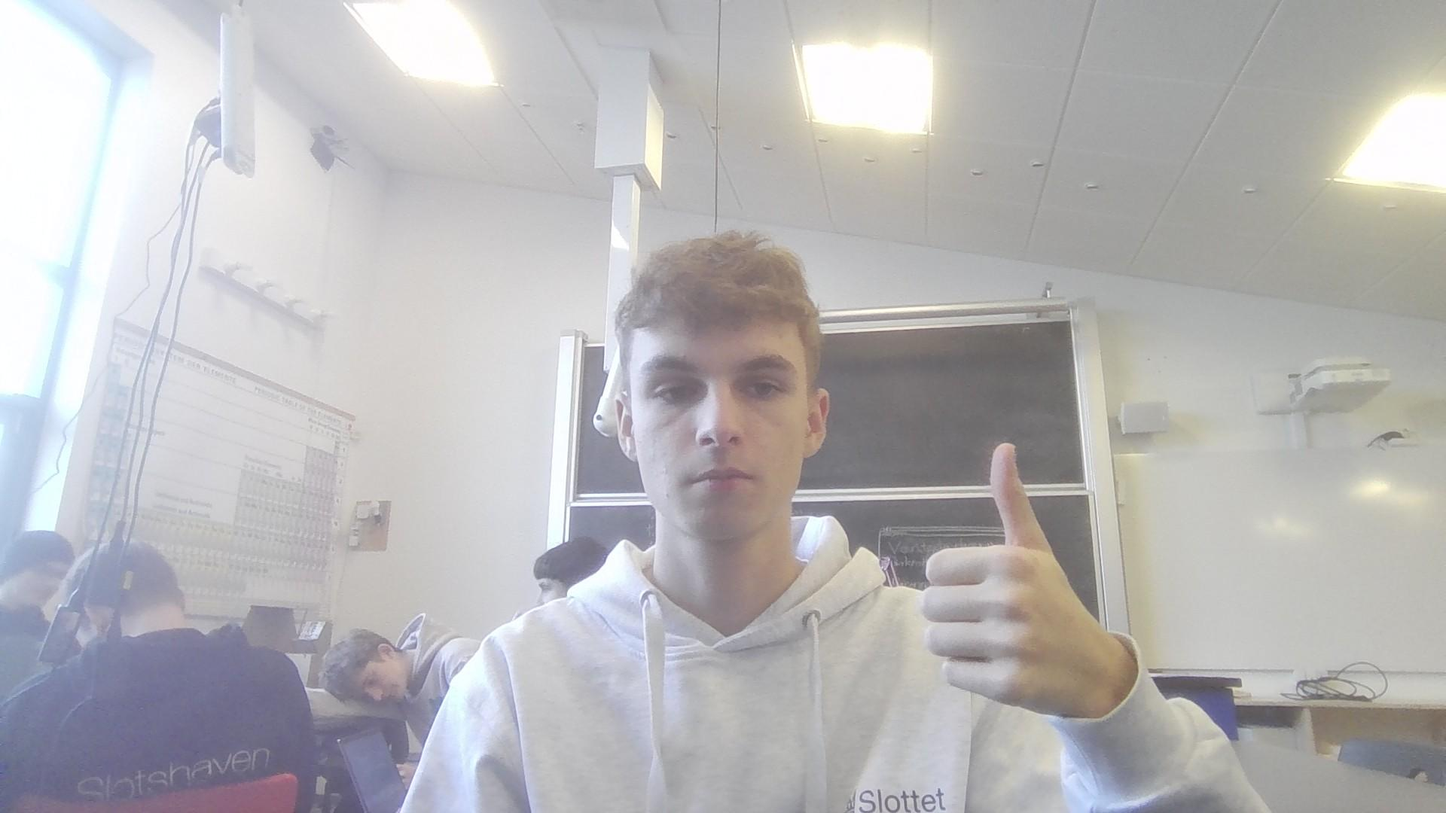thumbs up: (914, 433, 1092, 710)
